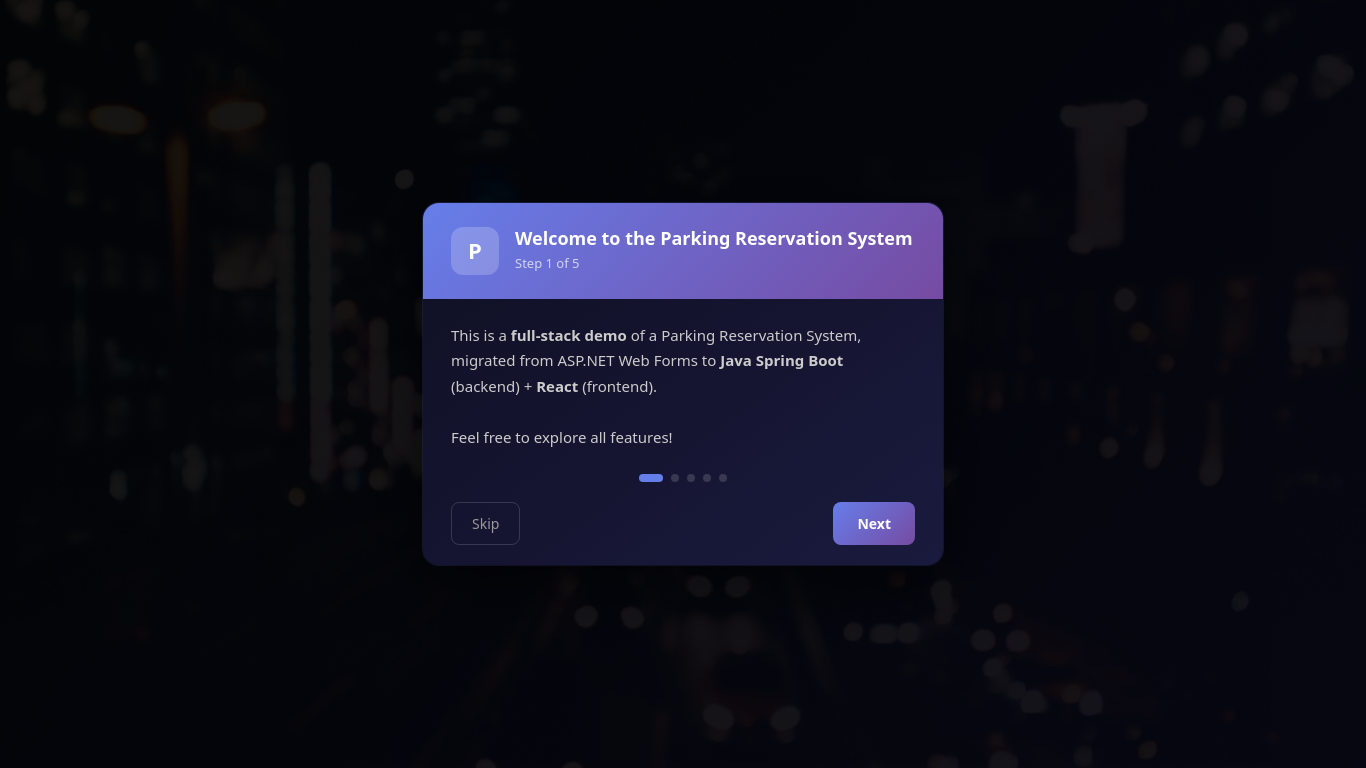
it: DemoGuide › should close guide when Skip is clicked
Click the button "Skip".
click(486, 524)  # box [451, 502, 520, 545]
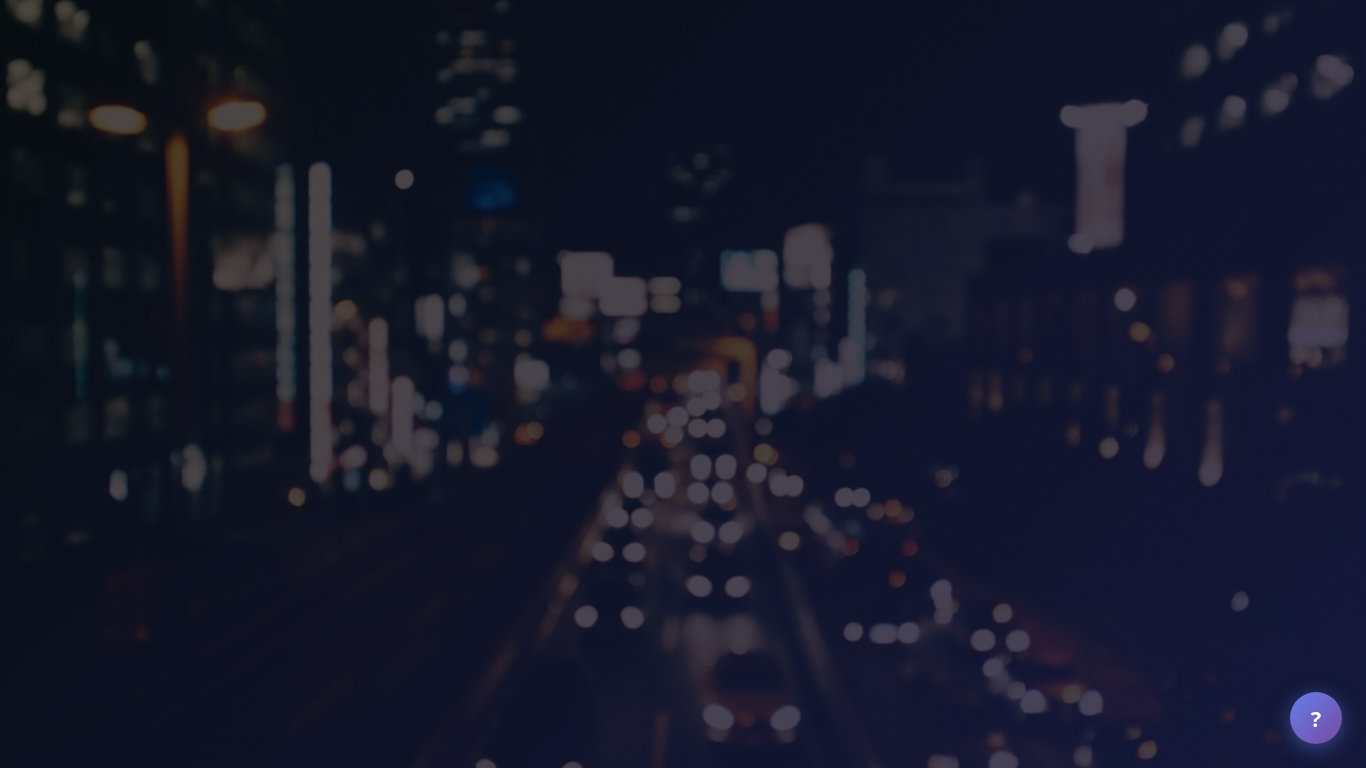
Check: the heading "Welcome to the Parking Reservation System" is gone
